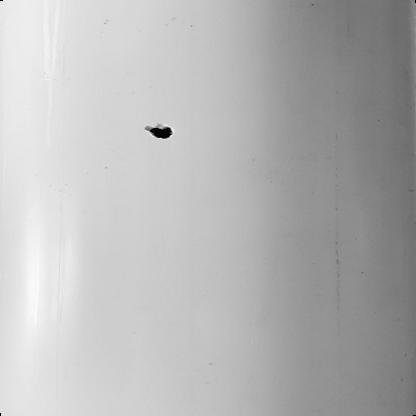kongdong: (143, 115, 183, 144)
